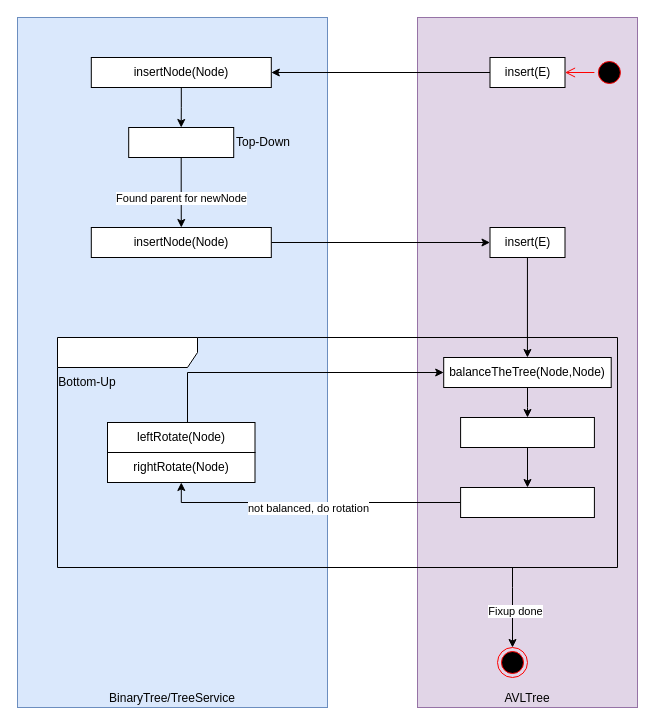
The diagram is 655 pixels wide and 725 high, and some of its shapes have lost their labels. Here are the shapes that lost their labels. From the top down, the box of each, then its label:
(128, 126, 234, 158): getParentOf(E)
(56, 336, 618, 568): Loop until parent is root
(460, 416, 594, 448): updateHeight(Node)
(460, 486, 594, 518): getBalanceFactor(Node)
